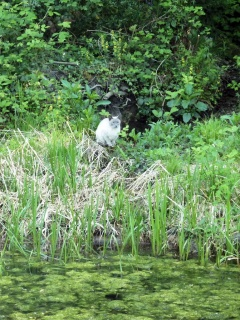Cat: (93, 113, 121, 147)
